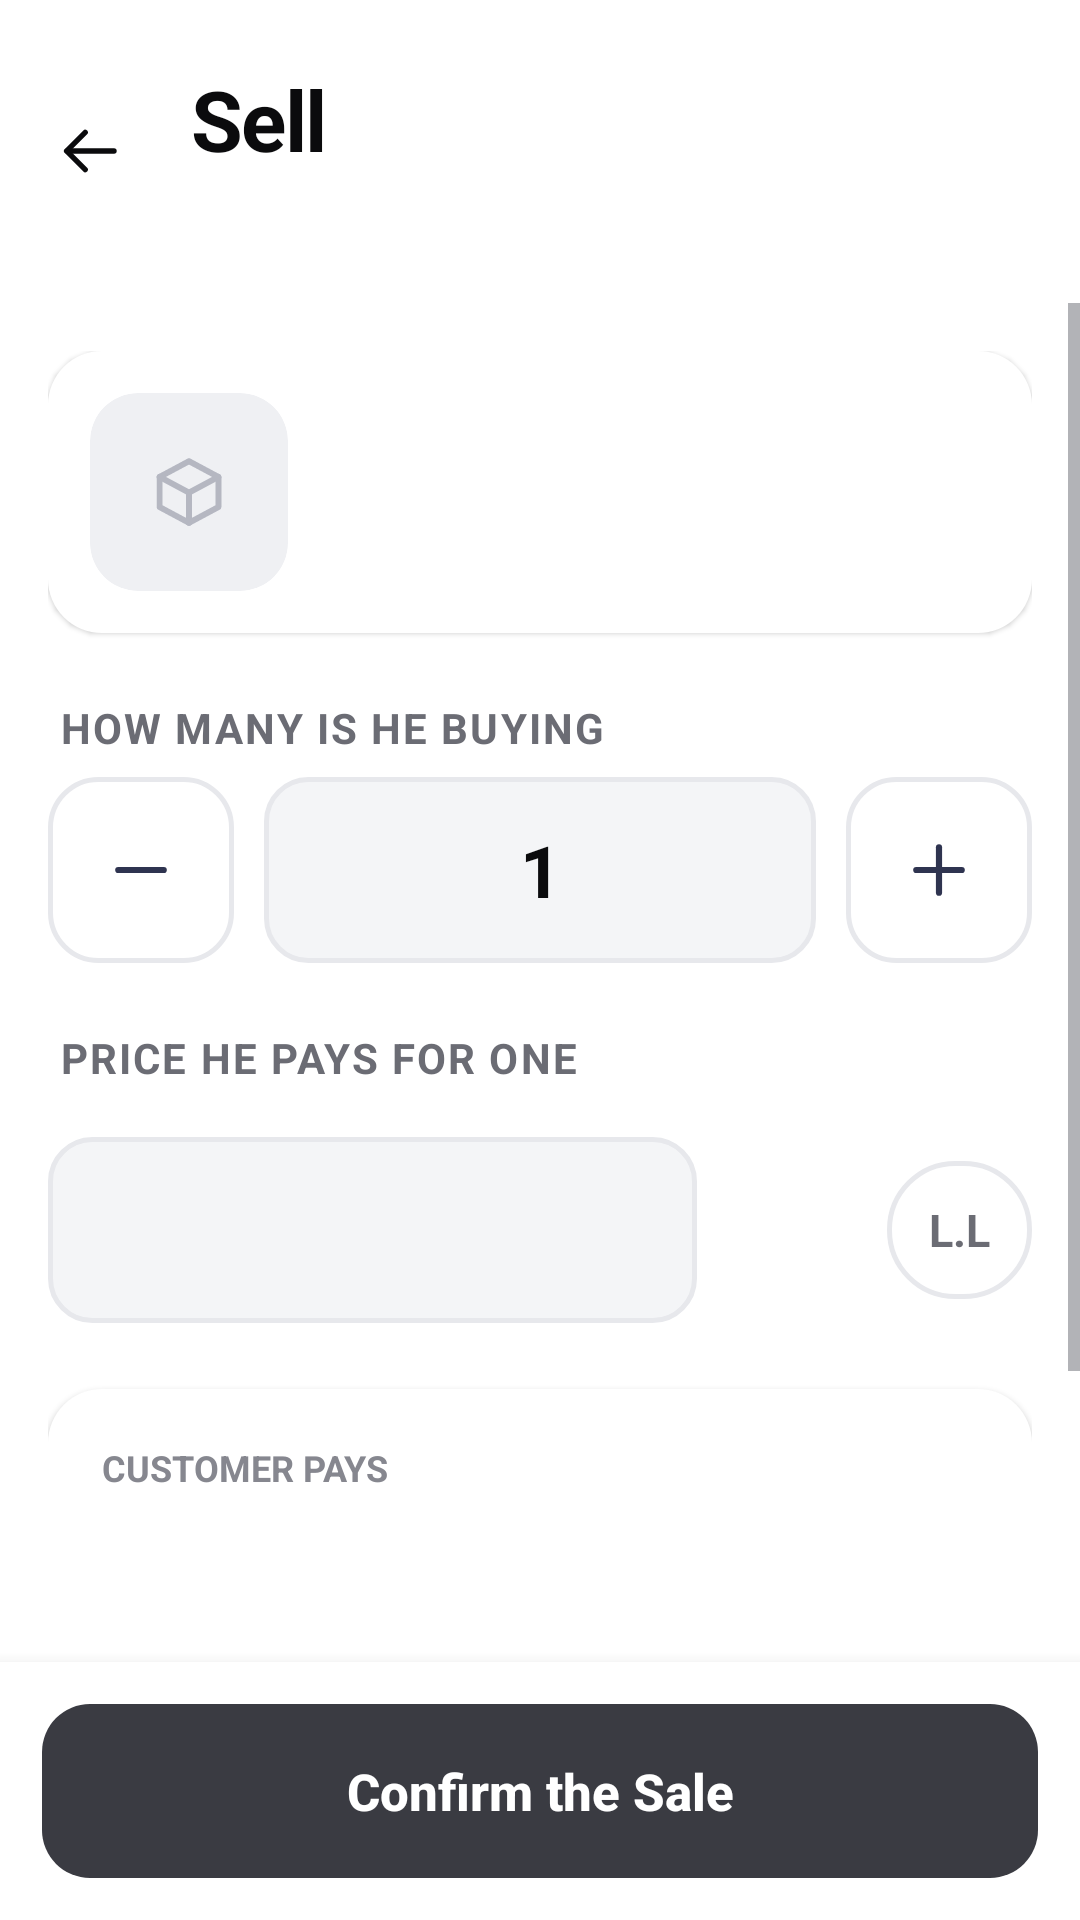

Where icons sit on this 1080 x 1920 app screen, as (x1, y1, x2, y2):
back: (63, 129, 117, 173)
box: (156, 458, 222, 526)
plus: (913, 844, 965, 896)
